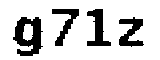1: (85, 7, 113, 51)
7: (47, 6, 80, 48)
g: (10, 13, 46, 59)
z: (117, 16, 149, 50)
